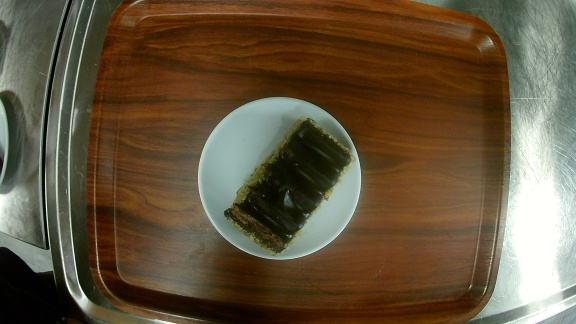muzlupasta: (199, 95, 361, 261)
